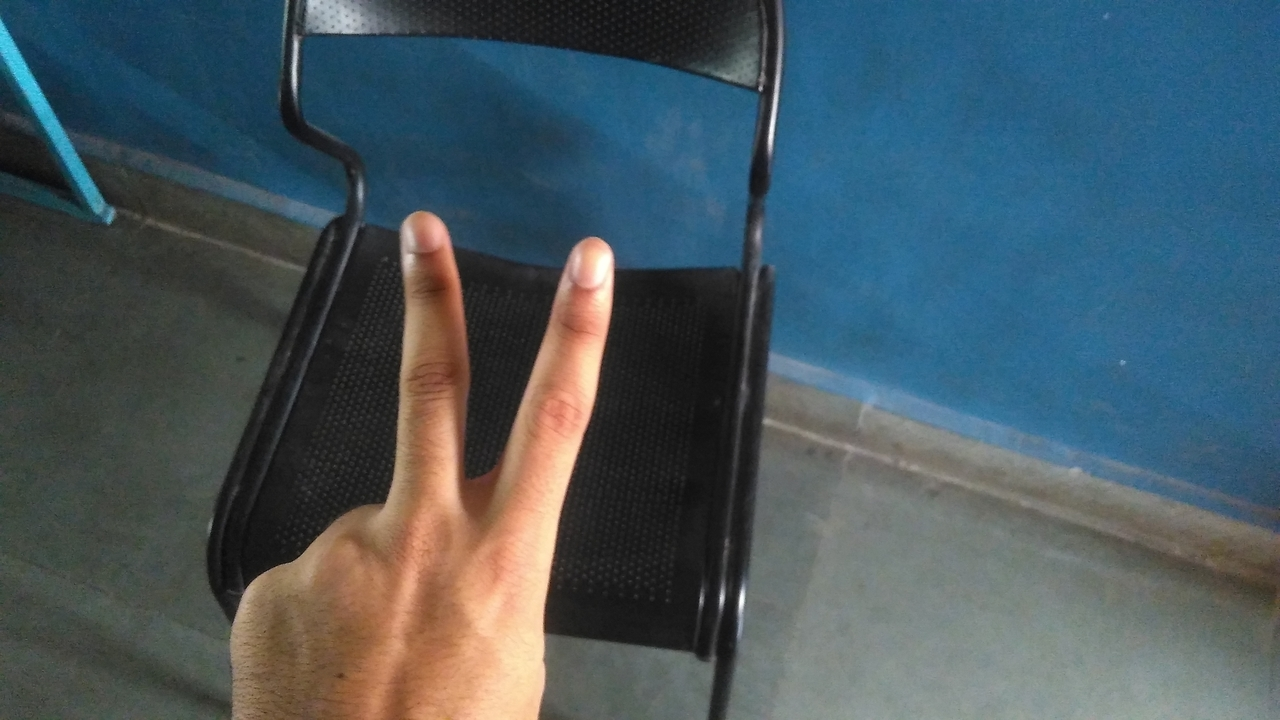fingertip: (550, 230, 618, 300), (390, 206, 456, 268)
